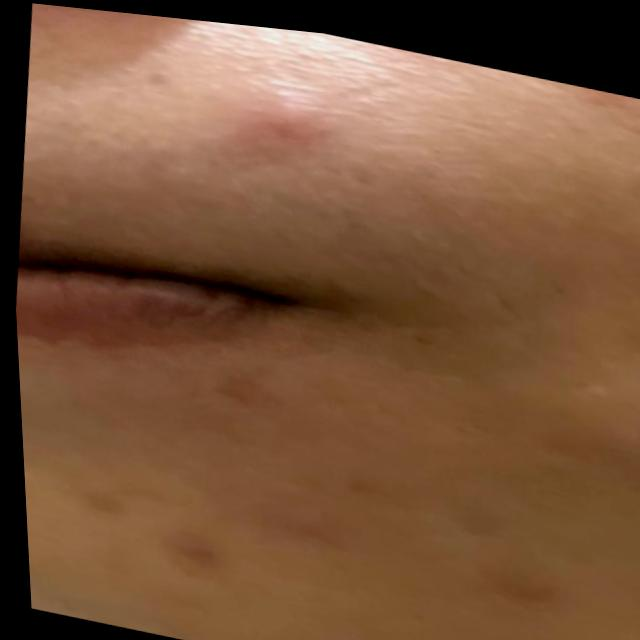papule: (226, 89, 323, 152)
